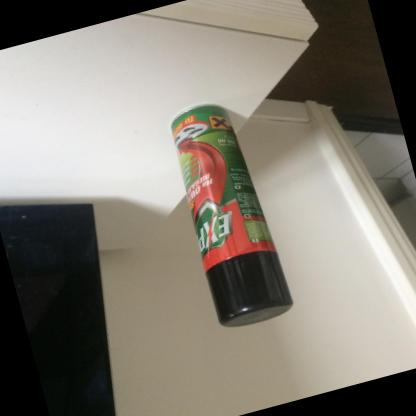Metal: (169, 103, 291, 326)
Plastic: (204, 250, 291, 325)
